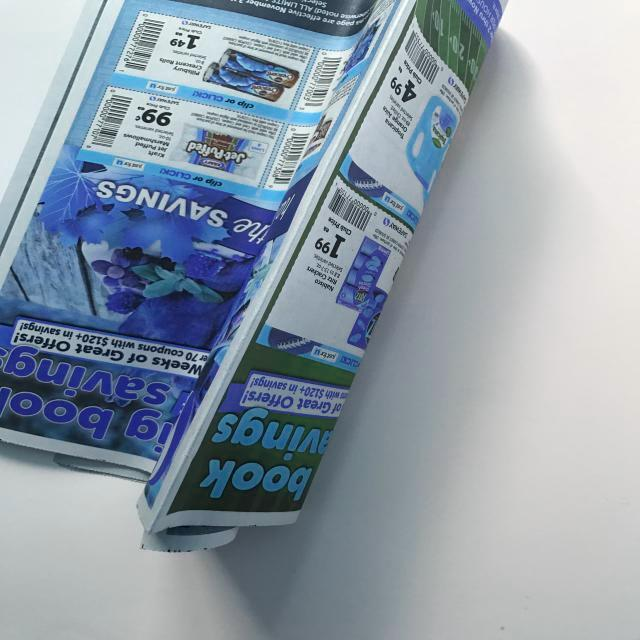paper: (0, 0, 509, 549)
